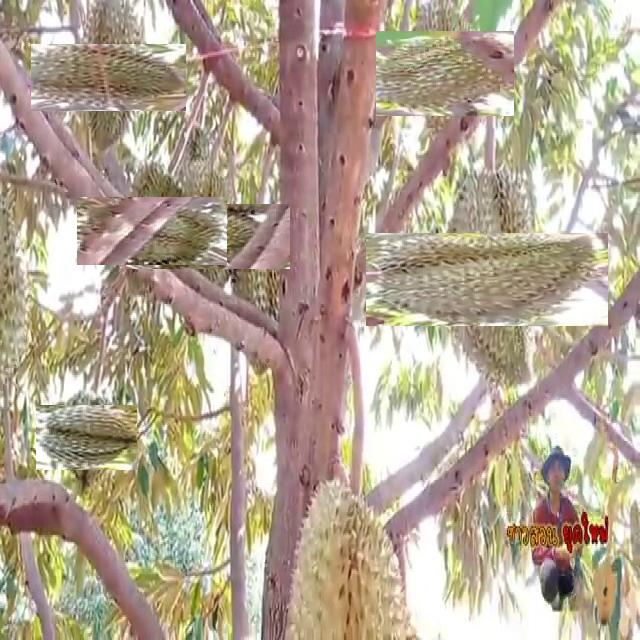durian: (403, 195, 571, 364), (279, 473, 416, 638), (151, 178, 266, 294), (389, 17, 502, 129), (53, 22, 164, 133), (97, 177, 207, 286), (231, 206, 292, 385), (45, 396, 129, 479)
